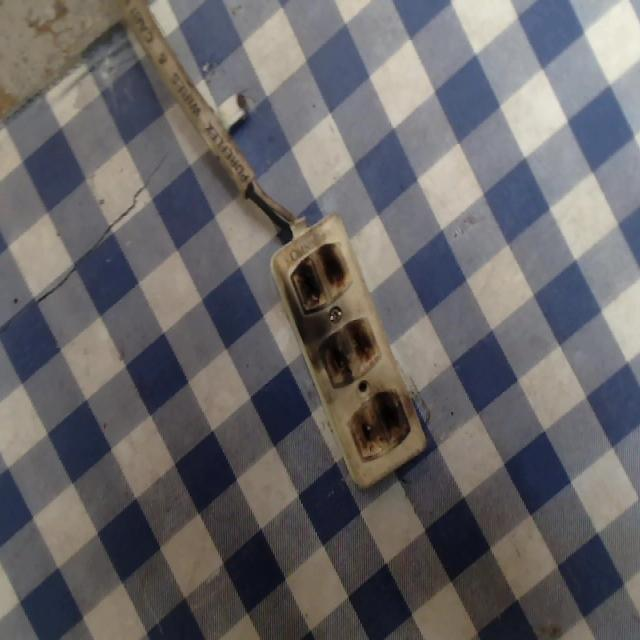-: (346, 389, 411, 464), (318, 316, 382, 389), (288, 240, 349, 311)
